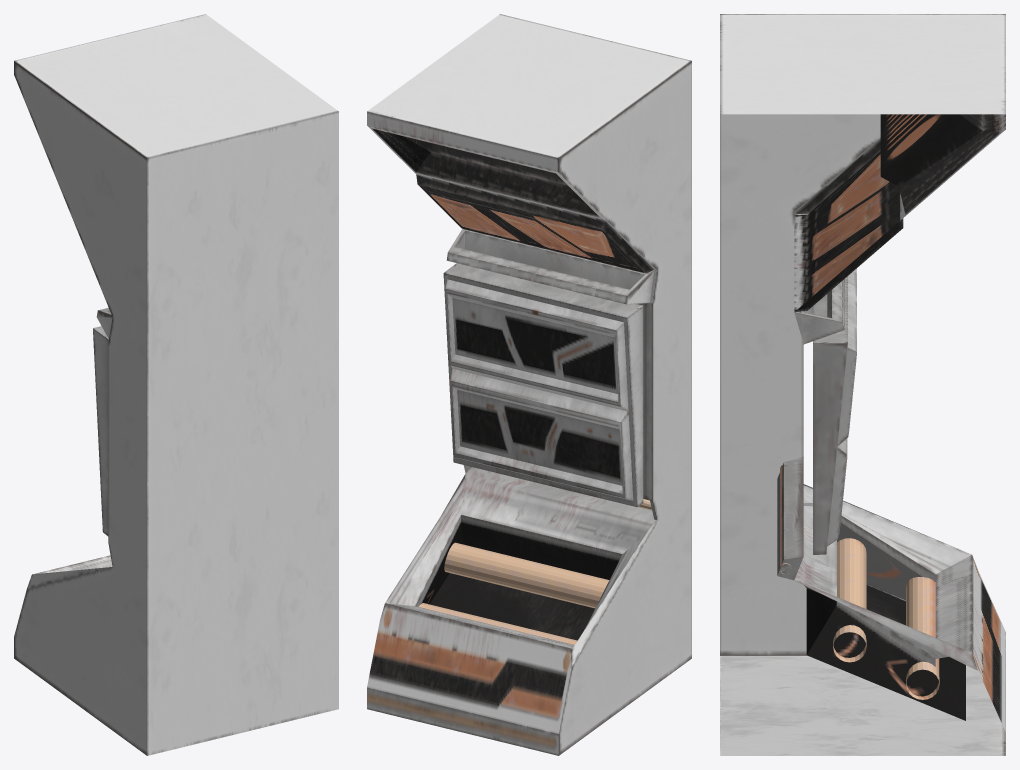
File: MDL_wall_left.fbx
The picture shows the model from 3 angles, left to right: view 1: azimuth 30°, elevation 25°; view 2: azimuth 150°, elevation 25°; view 3: azimuth 270°, elevation 25°; orthographic projection. The views are drawn at different scales.
Visible parts, largest first — view 1: Wall_Left; view 2: Wall_Left; view 3: Wall_Left.
Boxes of the visible parts, bbox=[...] form: Wall_Left: bbox=[14, 14, 338, 755]; Wall_Left: bbox=[367, 14, 691, 755]; Wall_Left: bbox=[720, 14, 1005, 755].
Bounding box in the file's own units: 101 × 300 × 121.
